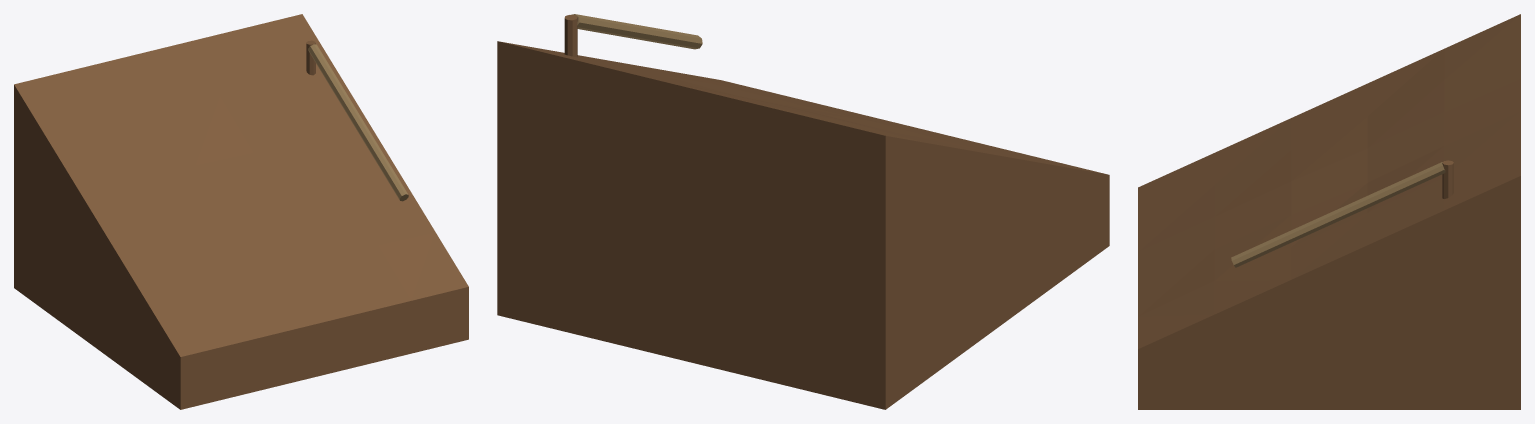
Rendered from SM_Terrain_Tavern_02_Slope.glb.
The picture shows the model from 3 angles, left to right: view 1: azimuth 30°, elevation 25°; view 2: azimuth 150°, elevation 25°; view 3: azimuth 270°, elevation 25°; orthographic projection. The views are drawn at different scales.
Visible parts, largest first — view 1: SM_Terrain_Tavern_02_Slope_Ramp, SM_Terrain_Tavern_02_Slope_RopeRail; view 2: SM_Terrain_Tavern_02_Slope_Ramp, SM_Terrain_Tavern_02_Slope_RopeRail, SM_Terrain_Tavern_02_Slope_RopePostB; view 3: SM_Terrain_Tavern_02_Slope_Ramp, SM_Terrain_Tavern_02_Slope_RopeRail, SM_Terrain_Tavern_02_Slope_RopePostB.
Part boxes in pixels (x1,y1,x2,y2): SM_Terrain_Tavern_02_Slope_Ramp: (14, 14, 468, 409); SM_Terrain_Tavern_02_Slope_RopeRail: (308, 44, 408, 201); SM_Terrain_Tavern_02_Slope_Ramp: (497, 41, 1109, 409); SM_Terrain_Tavern_02_Slope_RopeRail: (571, 14, 702, 49); SM_Terrain_Tavern_02_Slope_RopePostB: (564, 15, 577, 57); SM_Terrain_Tavern_02_Slope_Ramp: (1138, 14, 1520, 409); SM_Terrain_Tavern_02_Slope_RopeRail: (1231, 162, 1445, 267); SM_Terrain_Tavern_02_Slope_RopePostB: (1442, 160, 1453, 198).
Size of the model in its own units: 2 by 1.35 by 2.
